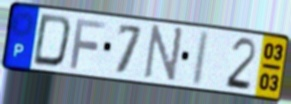2: (224, 36, 258, 93)
7: (115, 23, 145, 77)
D: (30, 12, 74, 70)
F: (68, 16, 108, 71)
I: (189, 28, 212, 88)
N: (141, 23, 186, 86)
